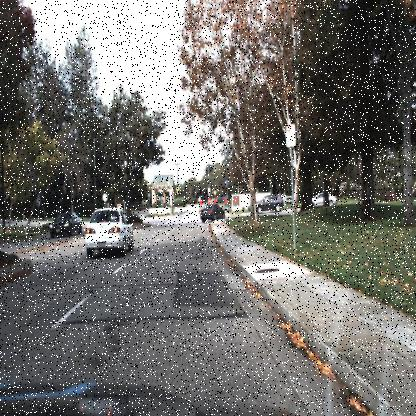car: (82, 206, 134, 260), (48, 207, 84, 238), (251, 190, 287, 216), (197, 202, 226, 225), (308, 189, 340, 207), (306, 192, 336, 210)
